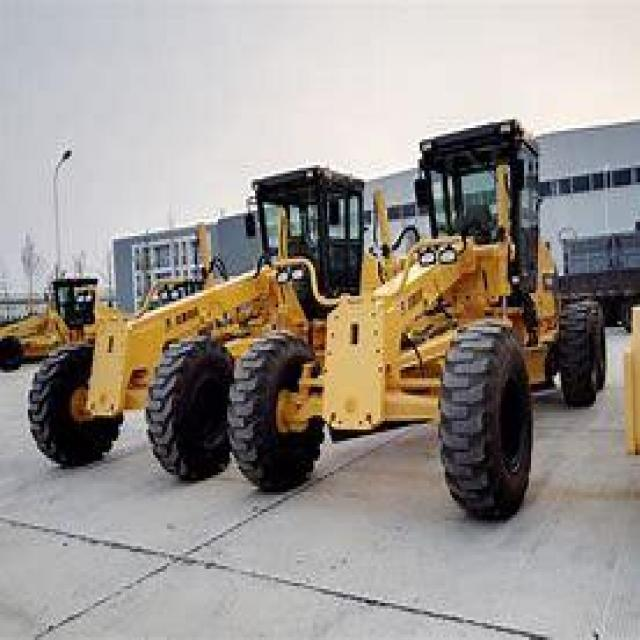Grader: (218, 100, 619, 524)
